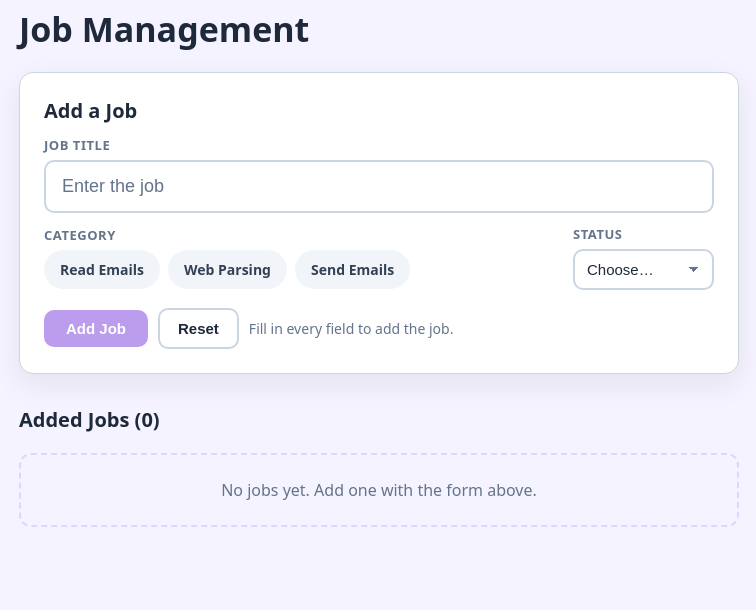
it: submitting logs the details, shows success, lists the job and resets
Type "Check inbox" into the field labelled "Job title" at (379, 186), box left=44, top=160, right=714, bottom=213
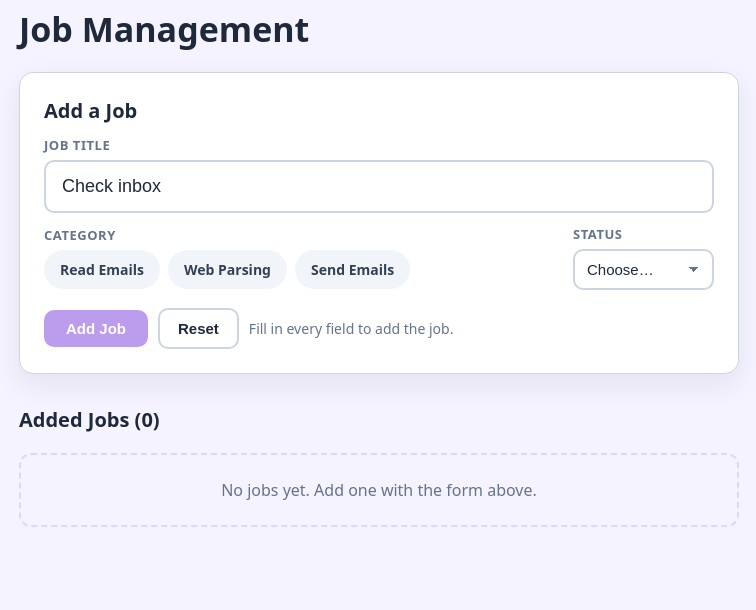
Click the radio button labelled "Read Emails" at (102, 270), box left=44, top=250, right=160, bottom=289
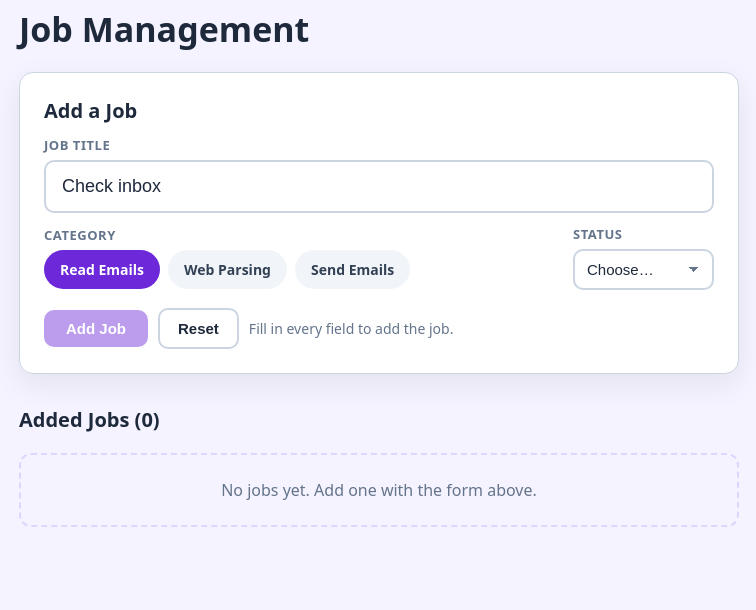
Select "In Progress" in the dropdown labelled "Status" at (644, 270), box left=573, top=249, right=714, bottom=290
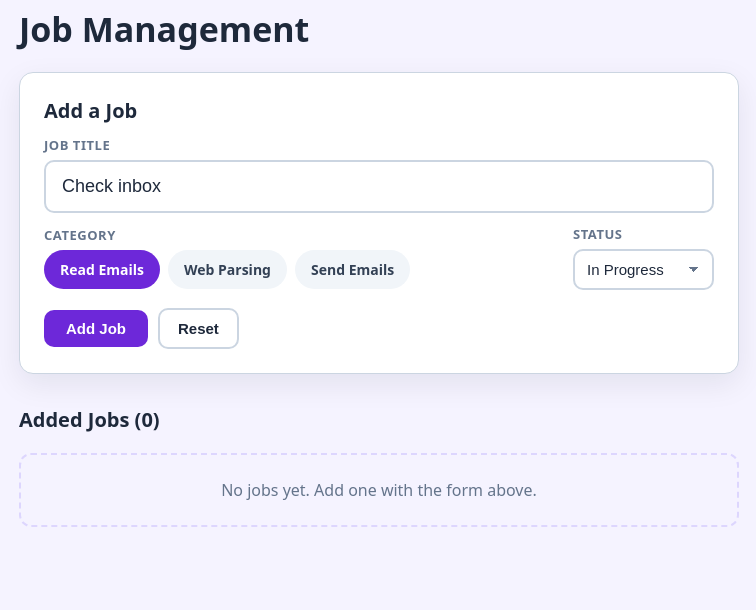
Click the button "Add Job" at (96, 328), box left=44, top=310, right=148, bottom=347
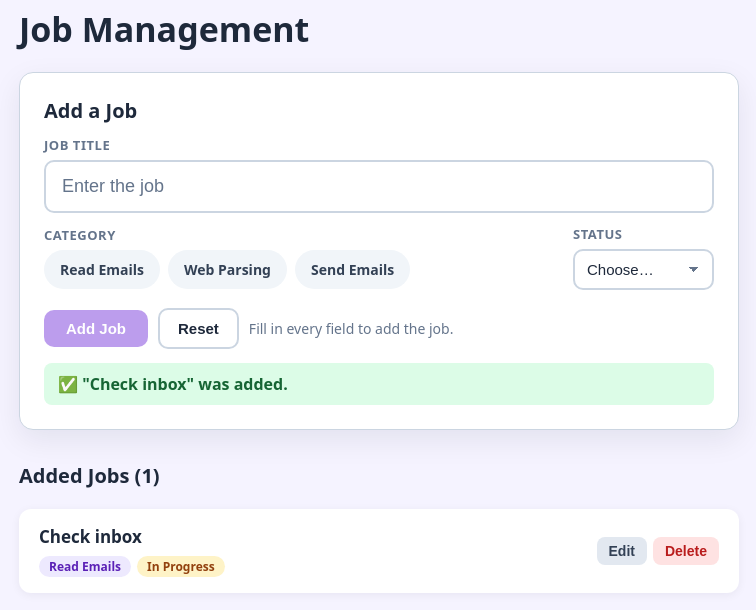
Expected: the message shows "\"Check inbox\" was added.", left=82, top=373, right=288, bottom=395
Expected: the heading "Added Jobs (1)" is shown, left=19, top=462, right=160, bottom=489
Expected: the field labelled "Job title" is empty, left=44, top=160, right=714, bottom=213
